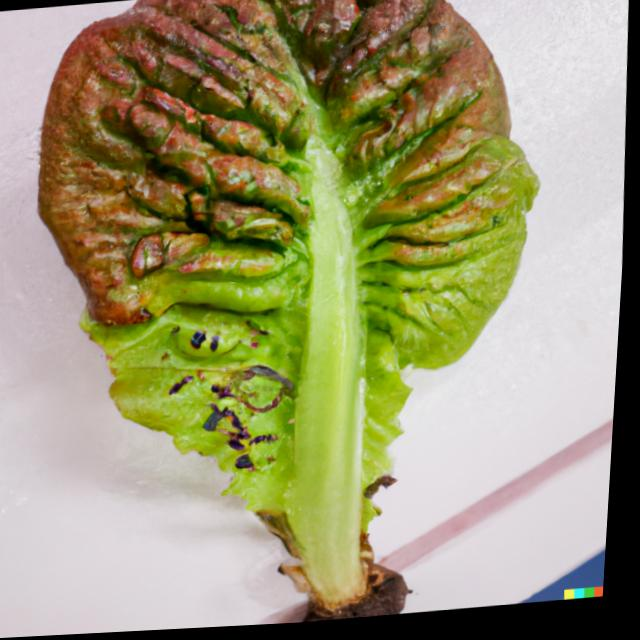-P: (0, 0, 571, 638)
